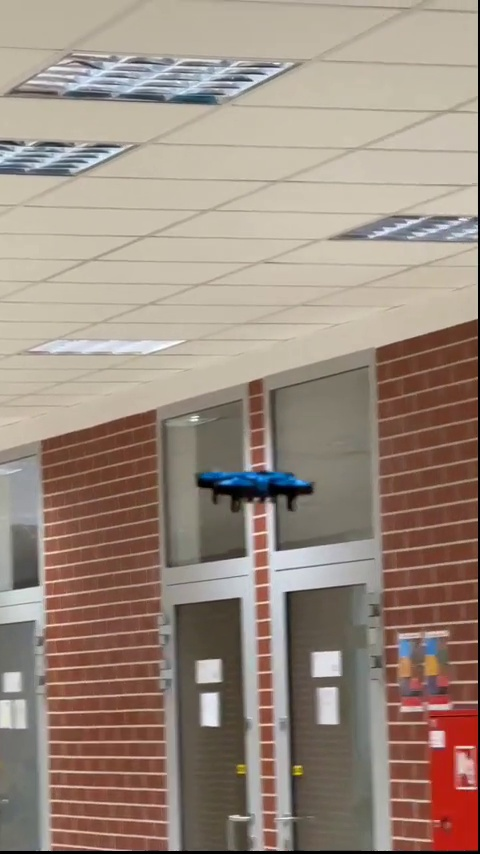drone: (199, 473, 311, 509)
